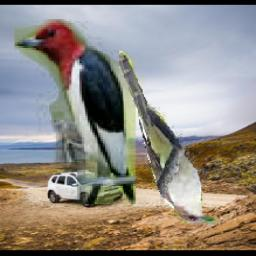Cuckoo: (118, 51, 215, 223)
Woodpecker: (14, 20, 136, 205)
